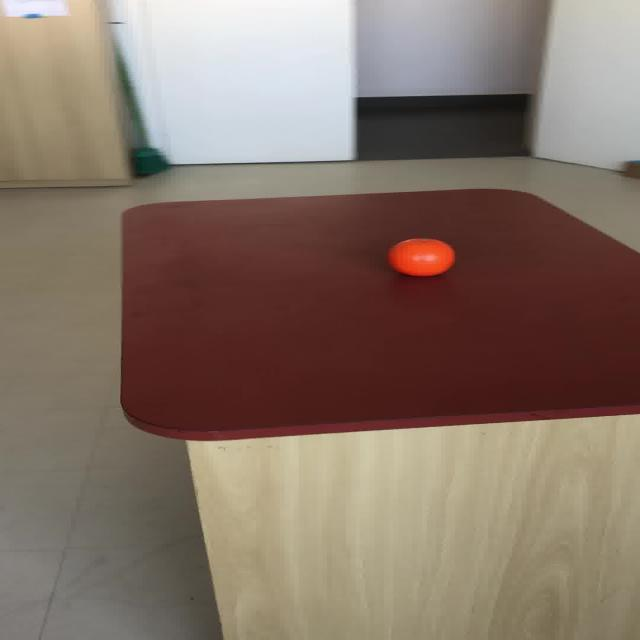orange: (386, 237, 454, 276)
